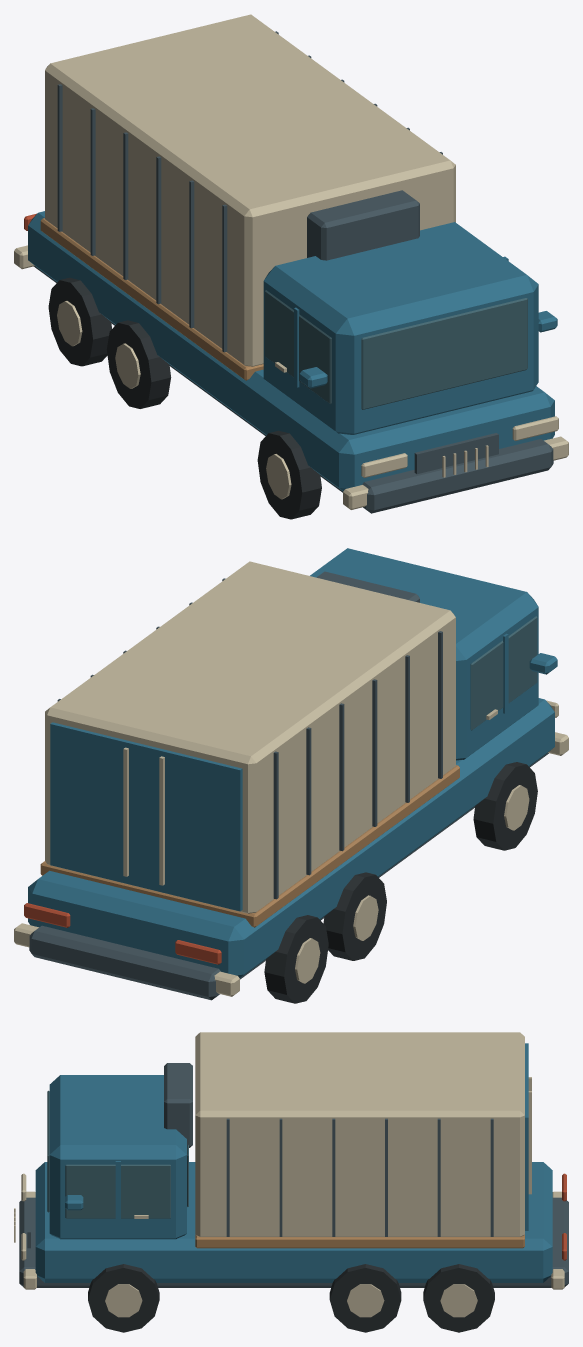
File: vehicle_reefer.glb
The picture shows the model from 3 angles, top to bottom: view 1: azimuth 30°, elevation 25°; view 2: azimuth 150°, elevation 25°; view 3: azimuth 270°, elevation 25°; orthographic projection. The views are drawn at different scales.
Parts seen in each view (by area): view 1: vehicle_reefer; view 2: vehicle_reefer; view 3: vehicle_reefer.
Boxes of the visible parts, <box> form: vehicle_reefer: <box>14,14,568,519</box>; vehicle_reefer: <box>14,548,568,1003</box>; vehicle_reefer: <box>14,1032,568,1332</box>.
Bounding box in the file's own units: 2.78 × 2.85 × 6.66.
